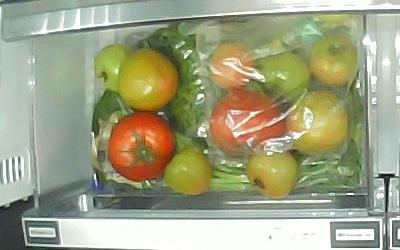tomato: (108, 111, 177, 183), (118, 48, 178, 111), (247, 151, 298, 198), (164, 147, 212, 196), (94, 45, 134, 90)
tomato_vinyl: (211, 90, 285, 158), (286, 90, 348, 154), (309, 35, 360, 88), (260, 52, 311, 99), (209, 43, 256, 90)
